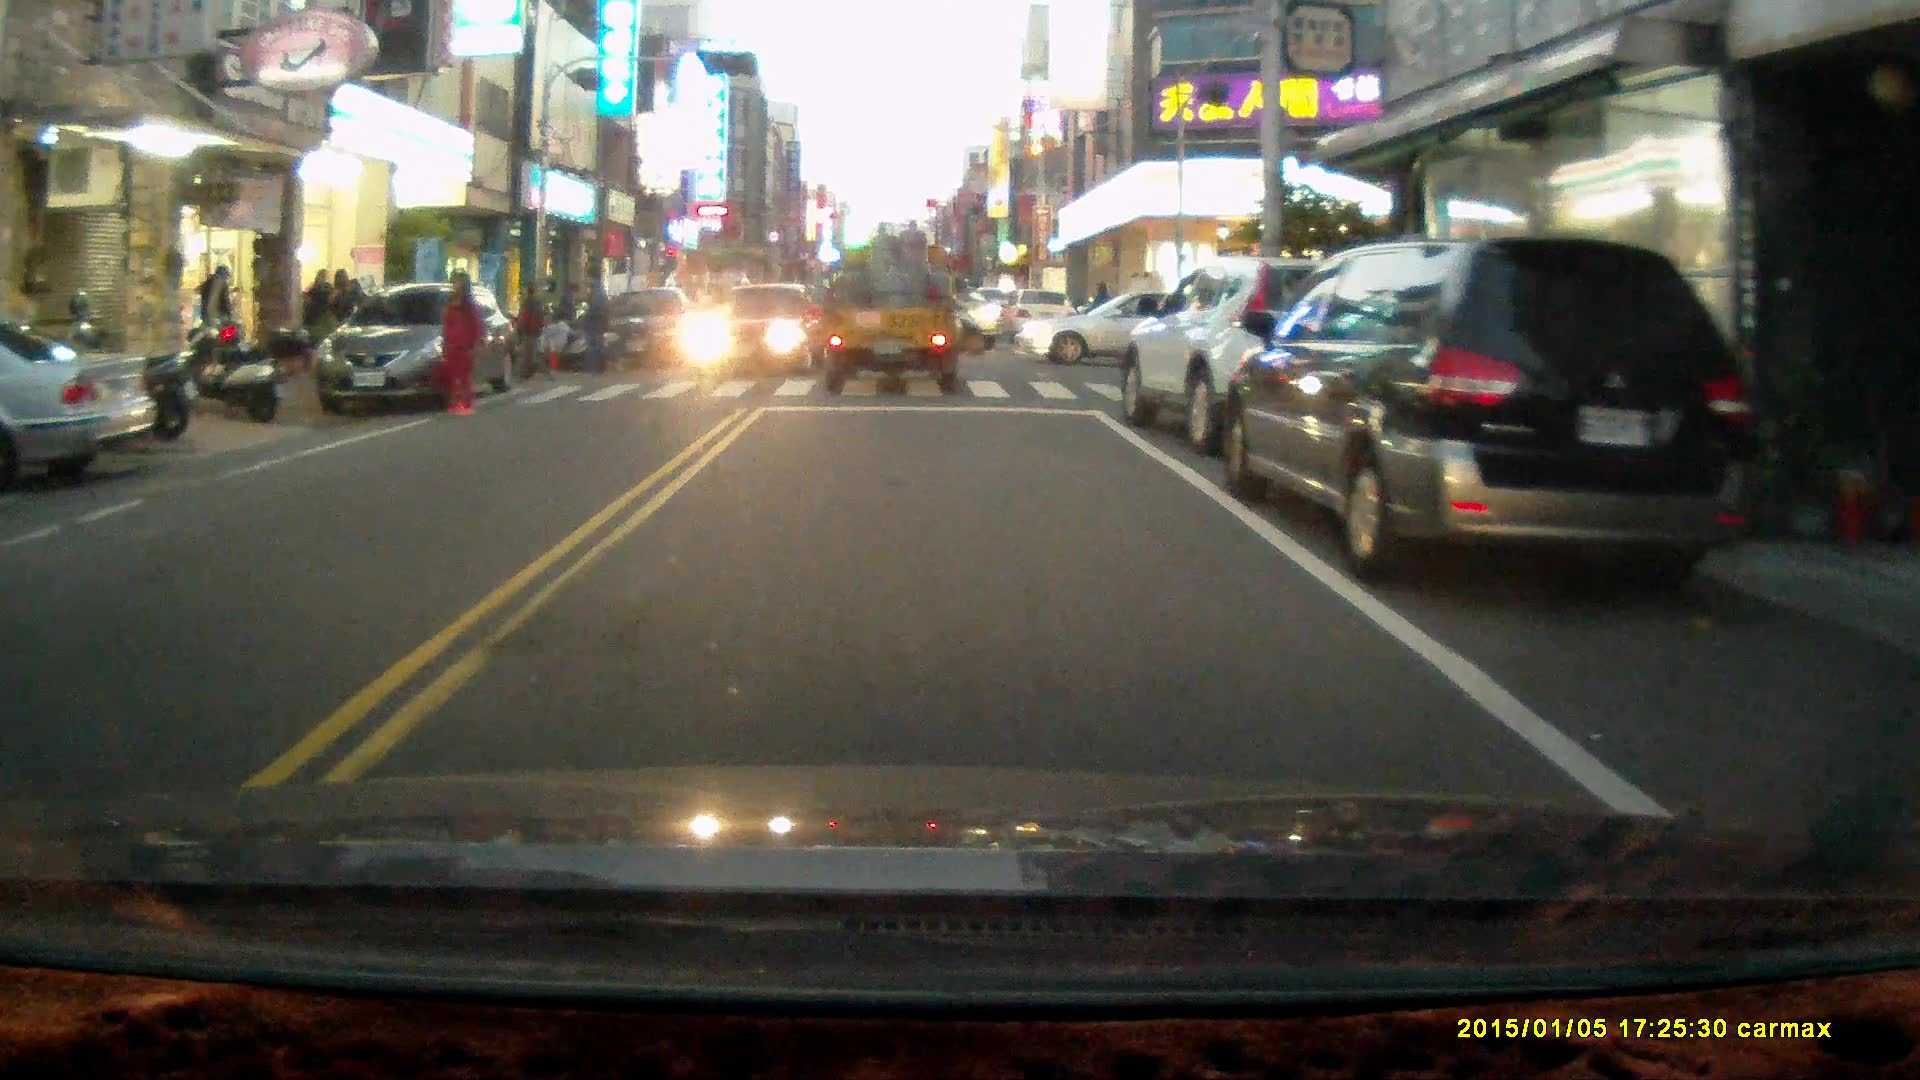pedestrian: (434, 268, 485, 417), (506, 270, 552, 387), (574, 262, 617, 378), (195, 264, 237, 365), (544, 309, 575, 373)
rider: (942, 266, 990, 356)
vehicle: (1225, 235, 1764, 587), (1117, 252, 1441, 459), (316, 284, 516, 418), (818, 221, 970, 396), (1, 322, 152, 475), (1018, 287, 1242, 366), (686, 283, 821, 374), (584, 289, 704, 376)
